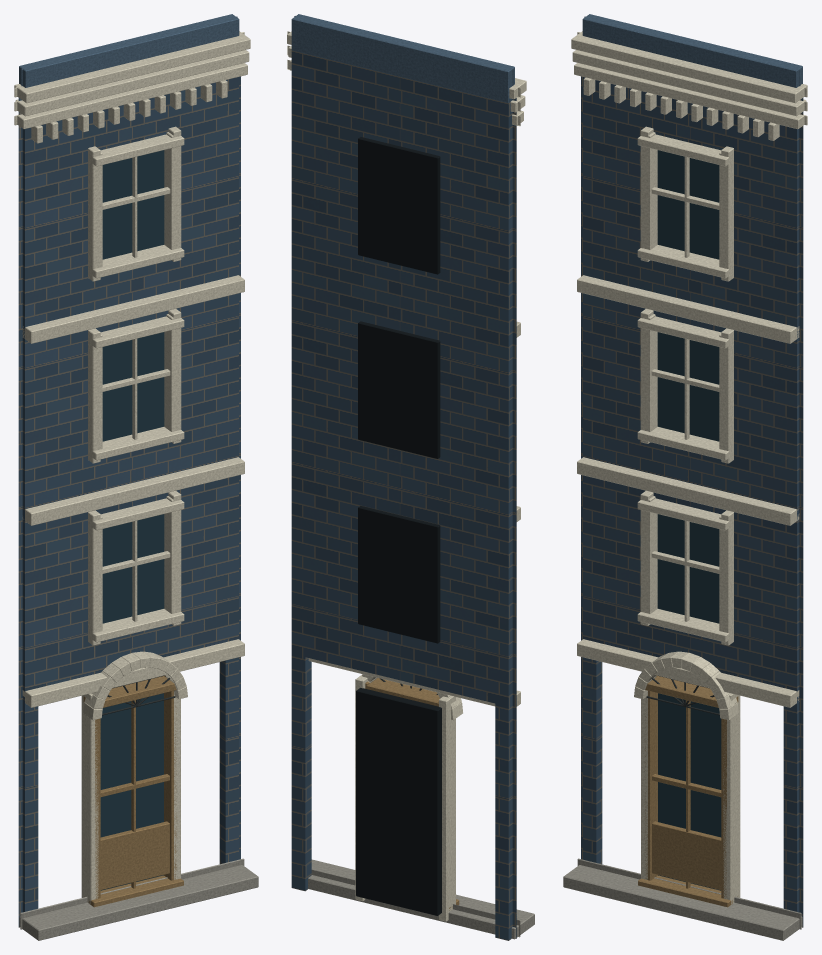
File: OFFC5_lod1.glb
3 renders of one model, left to right at view 1: azimuth 30°, elevation 25°; view 2: azimuth 150°, elevation 25°; view 3: azimuth 330°, elevation 25°, orthographic.
Parts seen in each view (by area): view 1: OFFC5_FRONT_LOD1; view 2: OFFC5_FRONT_LOD1; view 3: OFFC5_FRONT_LOD1.
Part boxes in pixels (bbox=[...]): OFFC5_FRONT_LOD1: bbox=[14, 14, 258, 940]; OFFC5_FRONT_LOD1: bbox=[287, 14, 534, 940]; OFFC5_FRONT_LOD1: bbox=[563, 14, 807, 940].
Size of the model in its own units: 3.44 by 12.26 by 0.68.
9 materials, 7 textured.
